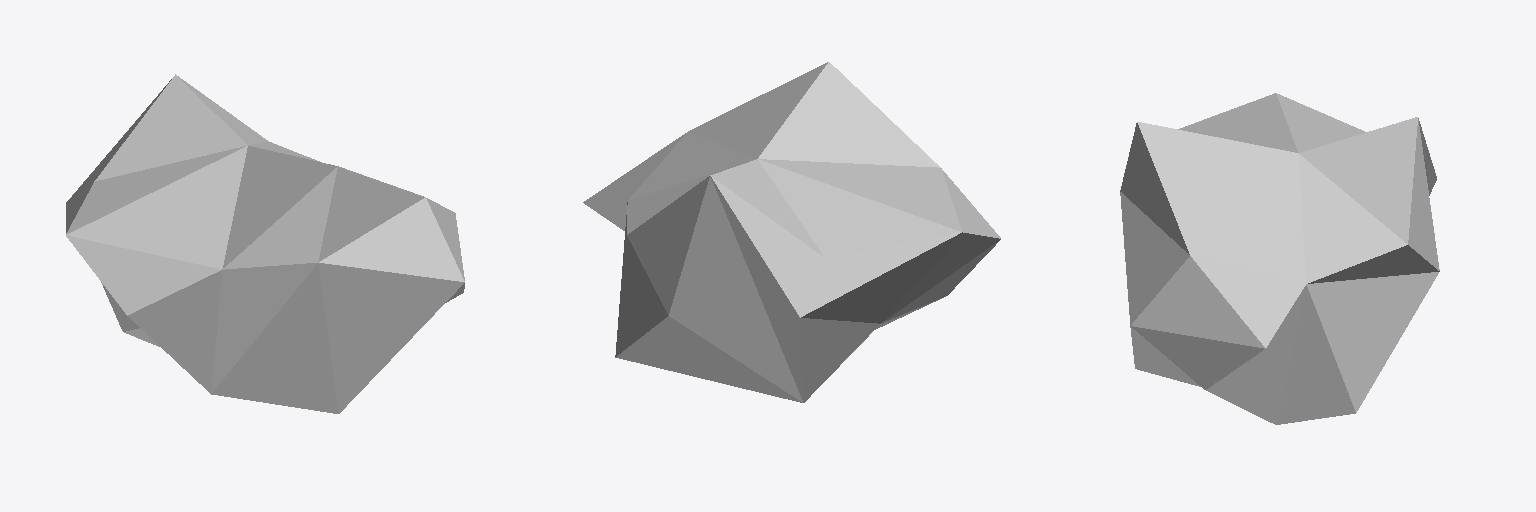
The model's file is paperball2.obj.
3 views of the same model, side by side, from view 1: azimuth 30°, elevation 25°; view 2: azimuth 150°, elevation 25°; view 3: azimuth 270°, elevation 25° (orthographic).
Parts seen in each view (by area): view 1: Paperball2_Cube.001; view 2: Paperball2_Cube.001; view 3: Paperball2_Cube.001.
Part boxes in pixels (bbox=[...]): Paperball2_Cube.001: bbox=[66, 74, 464, 413]; Paperball2_Cube.001: bbox=[583, 62, 1000, 402]; Paperball2_Cube.001: bbox=[1120, 93, 1439, 424].
Size of the model in its own units: 0.2192 by 0.152 by 0.1576.